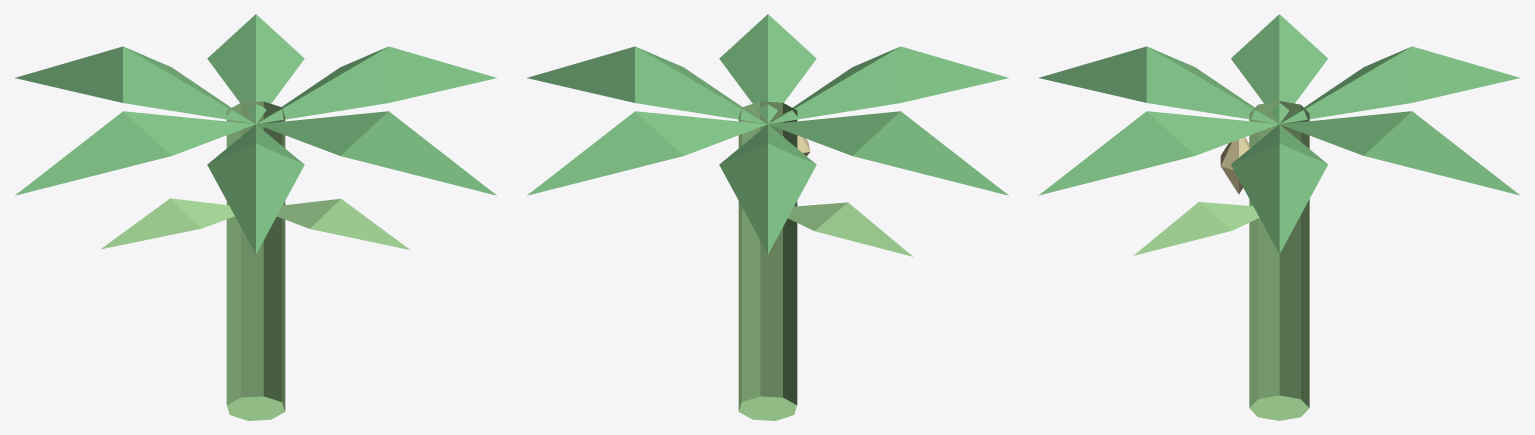
The model's file is banana_tropical.glb.
3 views of the same model, side by side, from view 1: azimuth 30°, elevation 25°; view 2: azimuth 150°, elevation 25°; view 3: azimuth 270°, elevation 25° (orthographic).
Parts seen in each view (by area): view 1: banana_tropical; view 2: banana_tropical; view 3: banana_tropical.
Boxes of the visible parts, x1=… form: banana_tropical: x1=15, y1=14, x2=496, y2=420; banana_tropical: x1=527, y1=14, x2=1008, y2=420; banana_tropical: x1=1038, y1=14, x2=1520, y2=420.
Size of the model in its own units: 4.8 by 3.13 by 4.16.
